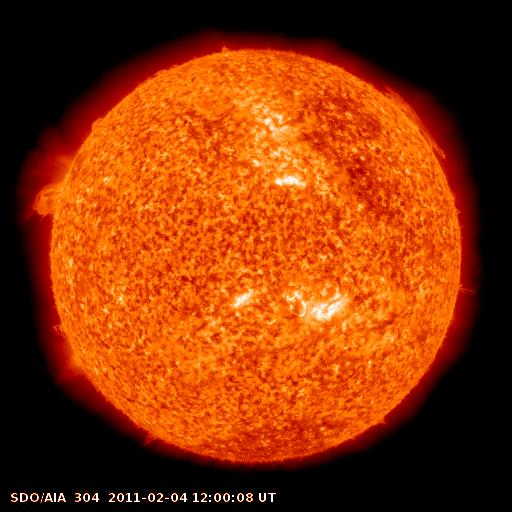prominence: (375, 74, 461, 177), (22, 143, 82, 231), (34, 311, 94, 387), (126, 414, 179, 458), (435, 271, 485, 308)
